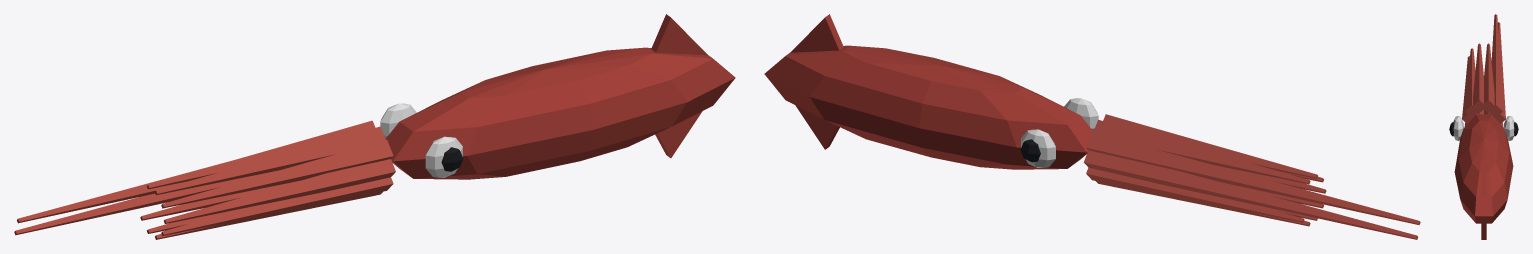
The model's file is fish-giant-squid.glb.
The picture shows the model from 3 angles, left to right: view 1: azimuth 30°, elevation 25°; view 2: azimuth 150°, elevation 25°; view 3: azimuth 270°, elevation 25°; orthographic projection. The views are drawn at different scales.
Parts seen in each view (by area): view 1: fish-giant-squid; view 2: fish-giant-squid; view 3: fish-giant-squid.
Part boxes in pixels (x1=…): fish-giant-squid: x1=14, y1=14, x2=735, y2=239; fish-giant-squid: x1=764, y1=14, x2=1420, y2=239; fish-giant-squid: x1=1449, y1=14, x2=1518, y2=239.
Bounding box in the file's own units: 1.25 × 0.24 × 0.189.
